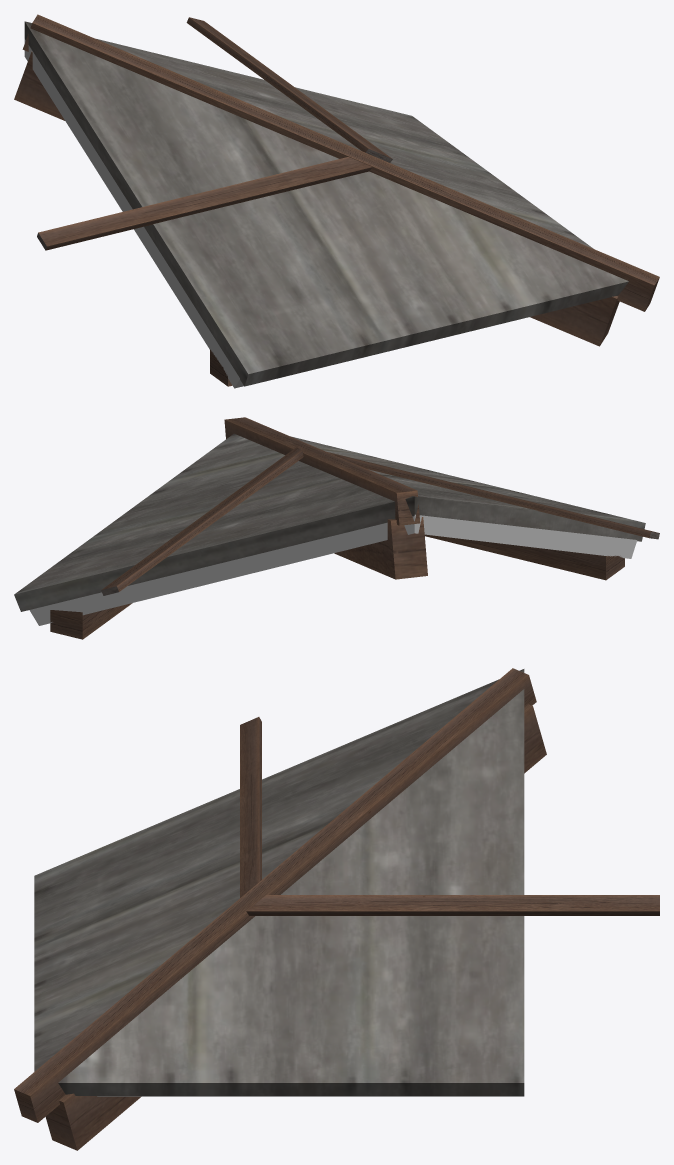
The model's file is itabuki_2x1t_a1corner_vex.fbx.
The picture shows the model from 3 angles, top to bottom: view 1: azimuth 30°, elevation 25°; view 2: azimuth 150°, elevation 25°; view 3: azimuth 270°, elevation 25°; orthographic projection. The views are drawn at different scales.
Parts seen in each view (by area): view 1: itabuki_2x1t_a1corner_vex; view 2: itabuki_2x1t_a1corner_vex; view 3: itabuki_2x1t_a1corner_vex.
Boxes of the visible parts, box(x1,y1,x2,y2) form: itabuki_2x1t_a1corner_vex: box(14, 14, 659, 388); itabuki_2x1t_a1corner_vex: box(14, 417, 659, 639); itabuki_2x1t_a1corner_vex: box(14, 668, 659, 1150).
Size of the model in its own units: 214 by 101 by 211.
